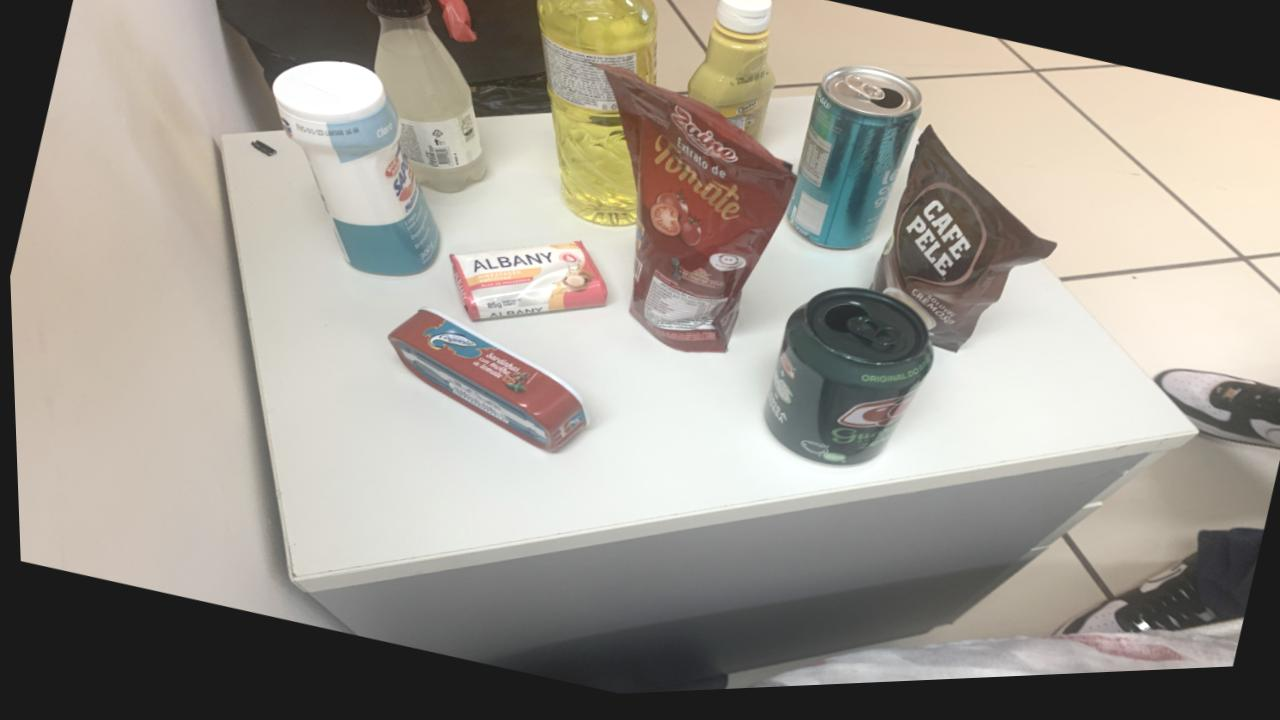Cleaner-Cleanup_Items: (272, 63, 437, 279)
Coffee-Pantry_Items: (869, 136, 1053, 361)
Detergent-Cleanup_Items: (536, 0, 657, 232)
Guarana_Can-Drinks: (759, 295, 931, 474)
Mustard-Pantry_Items: (686, 0, 775, 147)
Soap-Cleanup_Items: (447, 247, 605, 324)
Soda-Drinks: (366, 0, 485, 197)
Tea-Drinks: (785, 73, 921, 257)
Tomato_Sauce-Pantry_Items: (602, 73, 794, 360)
Tuna_Can-Pantry_Items: (385, 312, 584, 456)
